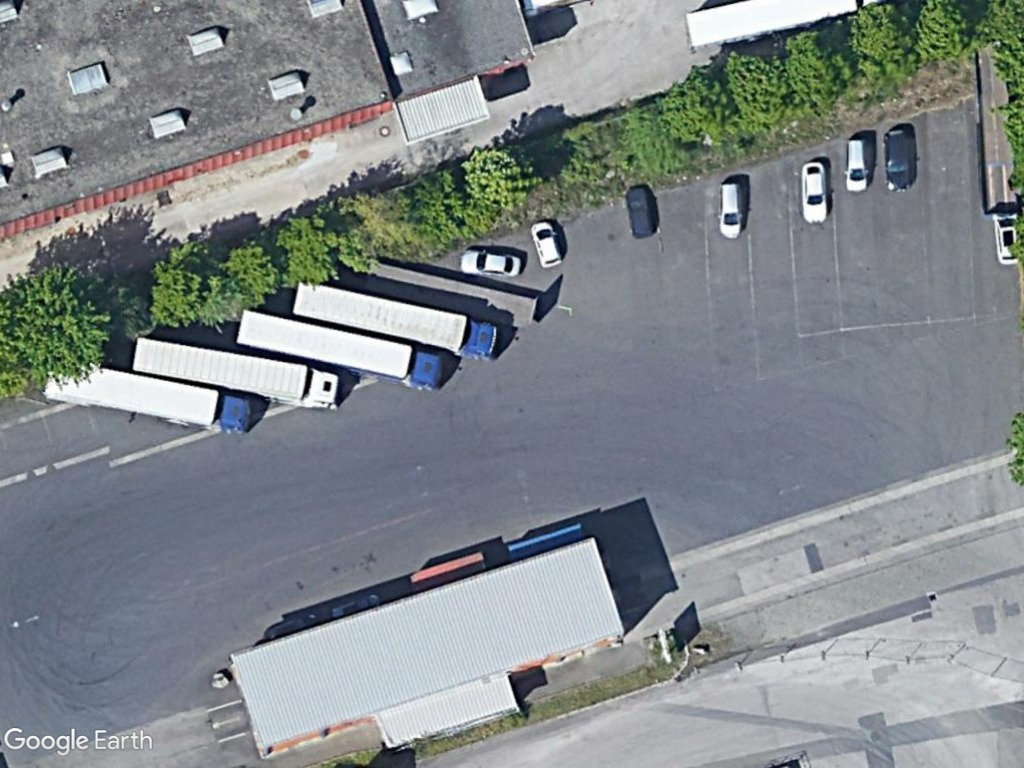car: (796, 153, 832, 227), (453, 246, 523, 280), (882, 127, 915, 198), (622, 181, 658, 242), (712, 177, 745, 240), (839, 136, 873, 195), (527, 219, 564, 272)
longvehicle: (232, 304, 452, 398), (291, 274, 507, 369), (129, 334, 343, 415)
truck: (90, 364, 264, 440)
